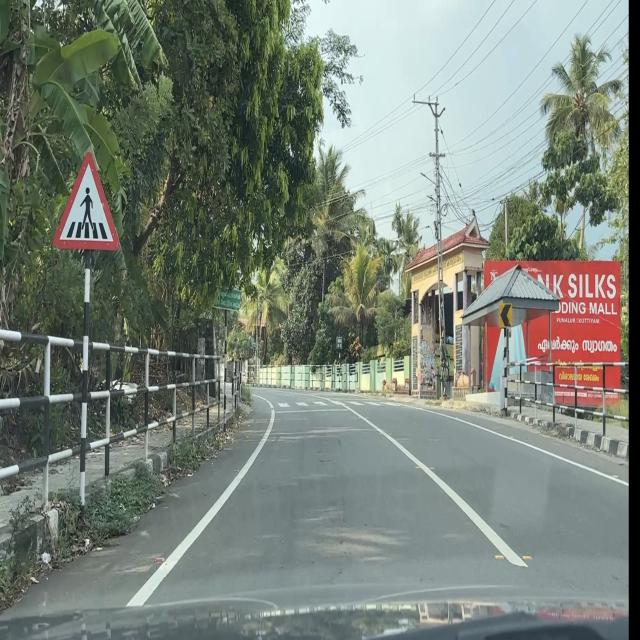PEDESTRIAN_CROSSING: (52, 151, 120, 252)
TURN_LEFT: (499, 303, 512, 327)
